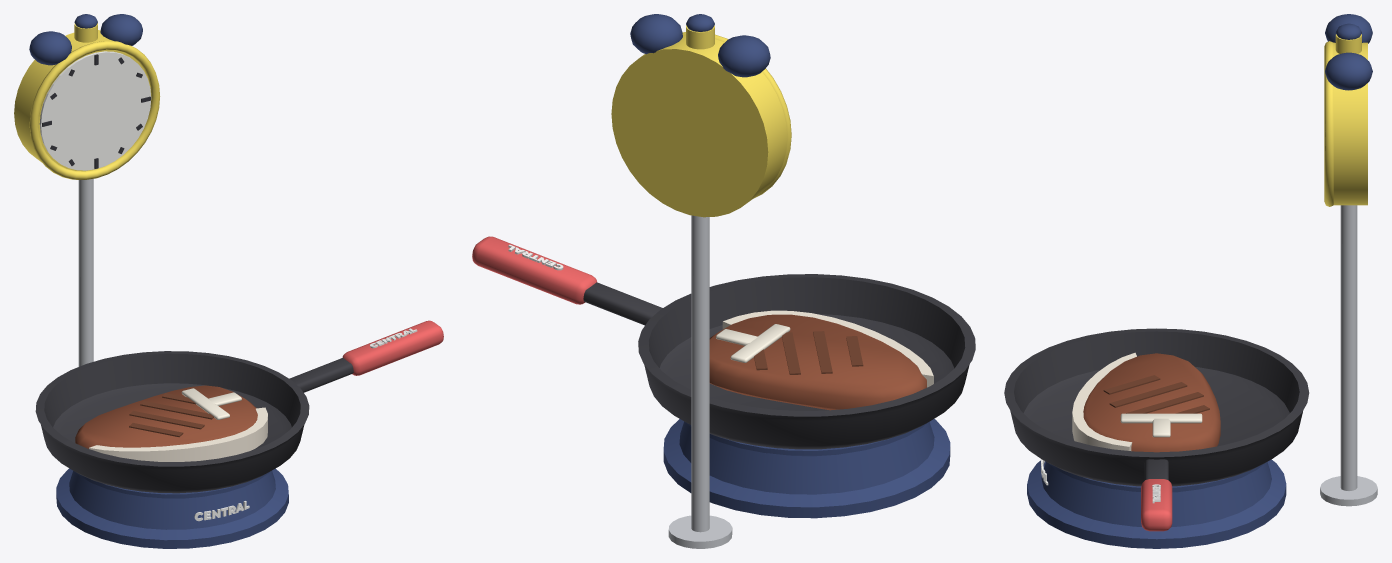
File: KitchenPan_01.glb
3 views of the same model, side by side, from view 1: azimuth 30°, elevation 25°; view 2: azimuth 150°, elevation 25°; view 3: azimuth 270°, elevation 25° (orthographic). The views are drawn at different scales.
Visible parts, largest first — view 1: GiantPan_Body, GiantPan_Stand, PanClock_Face, PanClock_Body, BigSteak_Meat, BigSteak_Fat, PanClock_Post, PanClock_Bells, GiantPan_Grip, BigSteak_Sear, BigSteak_Bone; view 2: GiantPan_Body, PanClock_Body, GiantPan_Stand, BigSteak_Meat, PanClock_Post, PanClock_Bells, GiantPan_Grip, BigSteak_Sear, BigSteak_Fat, BigSteak_Bone; view 3: GiantPan_Body, GiantPan_Stand, BigSteak_Meat, PanClock_Post, PanClock_Body, PanClock_Bells, BigSteak_Fat, BigSteak_Sear, GiantPan_Grip, BigSteak_Bone.
Part boxes in pixels (box(x1,y1,x2,y2)): GiantPan_Body: box(35, 351, 353, 493); GiantPan_Stand: box(56, 468, 288, 548); PanClock_Face: box(39, 51, 151, 170); PanClock_Body: box(14, 23, 160, 179); BigSteak_Meat: box(75, 385, 257, 448); BigSteak_Fat: box(89, 407, 267, 461); PanClock_Post: box(78, 179, 93, 366); PanClock_Bells: box(29, 14, 142, 65); GiantPan_Grip: box(342, 320, 443, 375); BigSteak_Sear: box(129, 393, 213, 437); BigSteak_Bone: box(181, 388, 241, 419); GiantPan_Body: box(583, 274, 975, 449); PanClock_Body: box(611, 25, 791, 217); GiantPan_Stand: box(663, 419, 950, 518); BigSteak_Meat: box(709, 314, 926, 410); PanClock_Post: box(668, 215, 732, 548); PanClock_Bells: box(630, 14, 770, 77); GiantPan_Grip: box(472, 236, 596, 304); BigSteak_Sear: box(754, 331, 863, 374); BigSteak_Fat: box(722, 310, 933, 387); BigSteak_Bone: box(716, 324, 790, 362); GiantPan_Body: box(1004, 328, 1309, 486); GiantPan_Stand: box(1027, 459, 1286, 548); BigSteak_Meat: box(1083, 353, 1220, 452); PanClock_Post: box(1320, 205, 1377, 506); PanClock_Body: box(1324, 34, 1367, 206); PanClock_Bells: box(1325, 14, 1372, 90); BigSteak_Fat: box(1072, 352, 1136, 450); BigSteak_Sear: box(1103, 375, 1209, 413); GiantPan_Grip: box(1141, 479, 1172, 531); BigSteak_Bone: box(1120, 413, 1202, 437).
Bounding box in the file's own units: 20.64 × 21.53 × 15.55.
